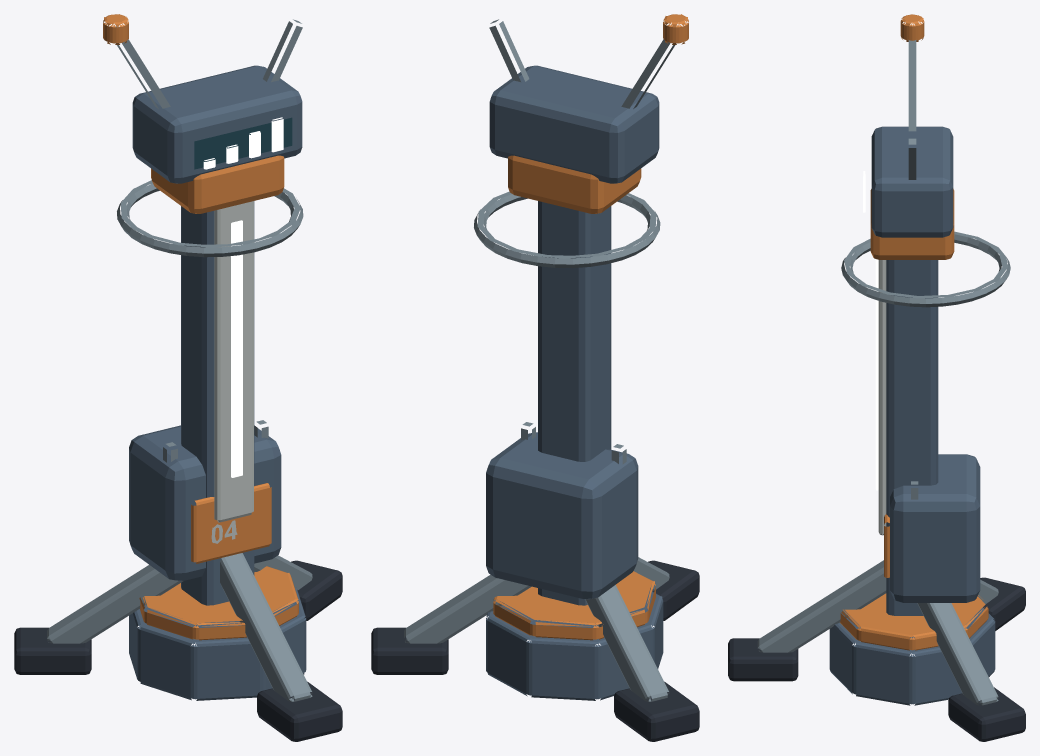
File: beacon.glb
3 views of the same model, side by side, from view 1: azimuth 30°, elevation 25°; view 2: azimuth 150°, elevation 25°; view 3: azimuth 270°, elevation 25° (orthographic). The views are drawn at different scales.
Visible parts, largest first — view 1: Body, Signal; view 2: Body; view 3: Body, Signal.
Boxes of the visible parts, x1,y1,x2,y2 form: Body: [14, 14, 342, 741]; Signal: [203, 117, 283, 477]; Body: [371, 14, 699, 741]; Body: [728, 14, 1025, 741]; Signal: [863, 171, 878, 490].
Size of the model in its own units: 1.51 by 2.97 by 1.32.
